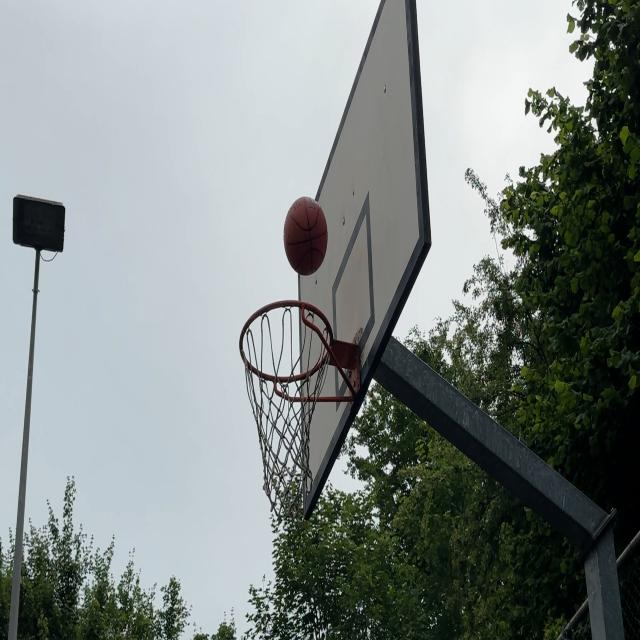Basketball: (285, 198, 328, 277)
